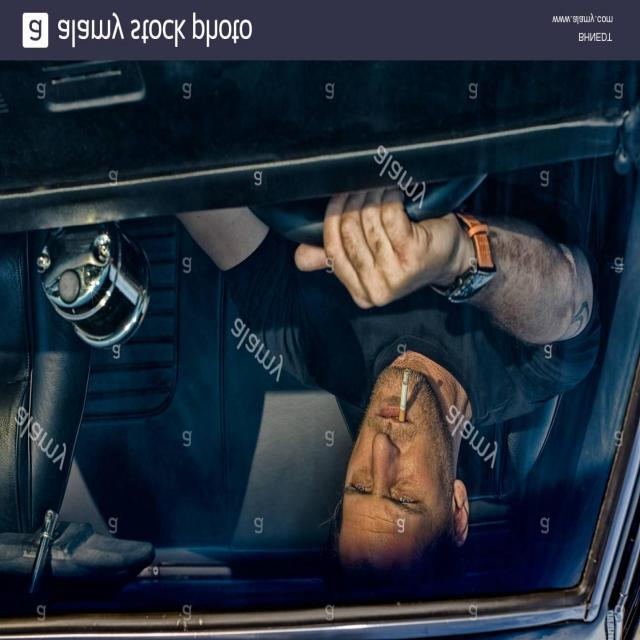cigarette: (383, 340, 418, 432)
